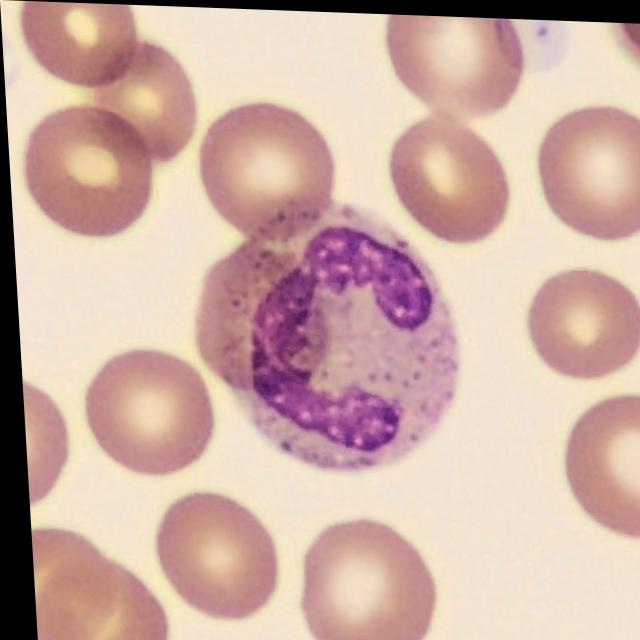Neutrofilo segmentado: (241, 201, 456, 469)
